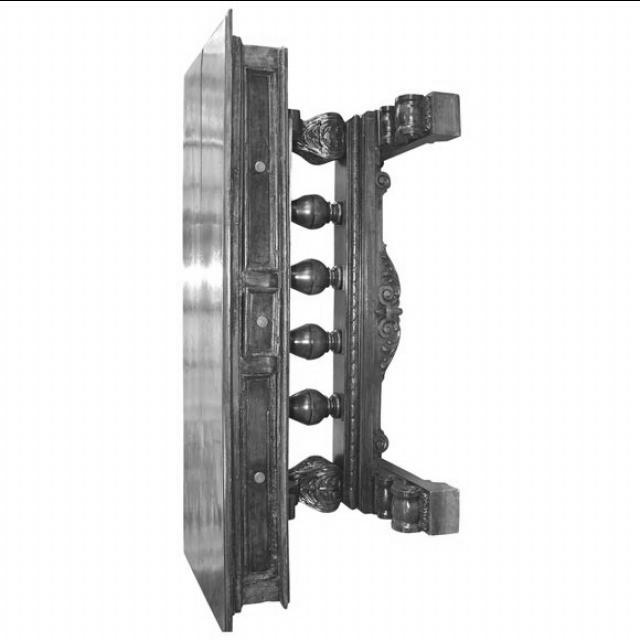table: (182, 7, 460, 631)
